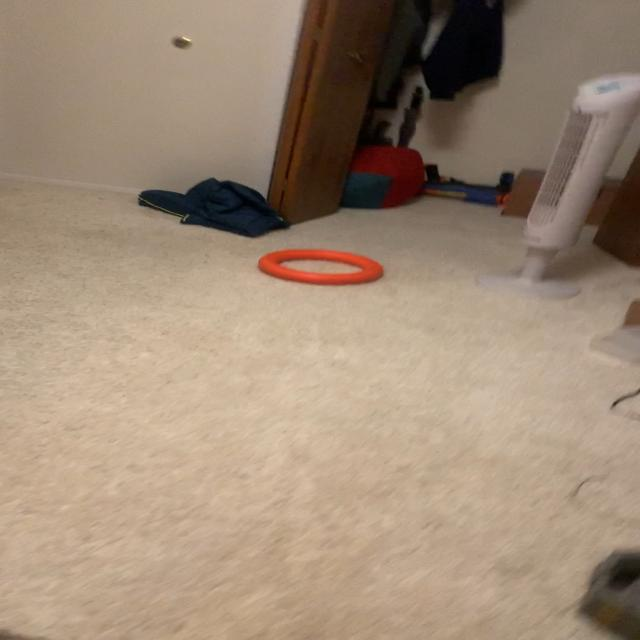notes: (260, 252, 382, 286)
